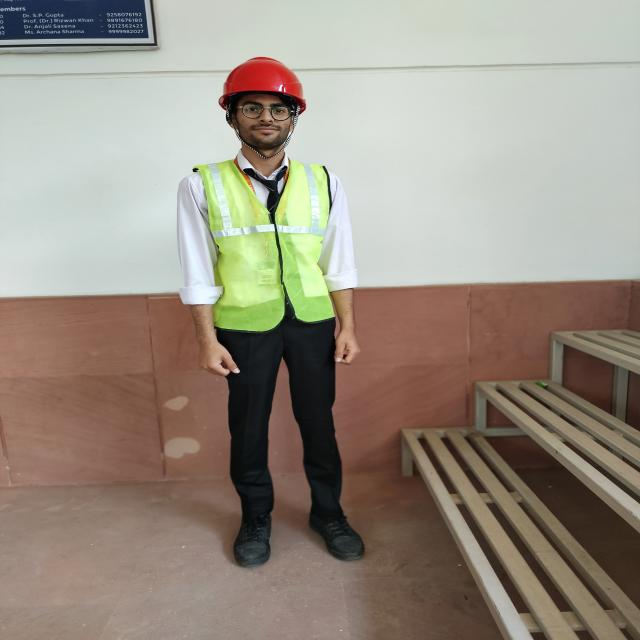safe: (179, 57, 368, 567)
